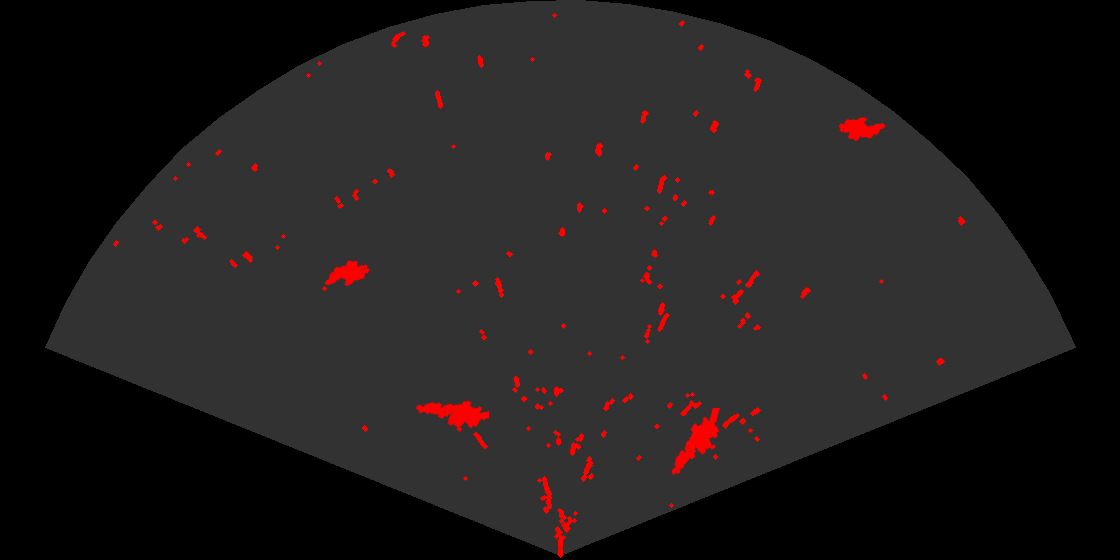AUV: (323, 259, 371, 288), (837, 116, 887, 143)
frogman: (670, 408, 721, 477), (414, 399, 489, 433)
